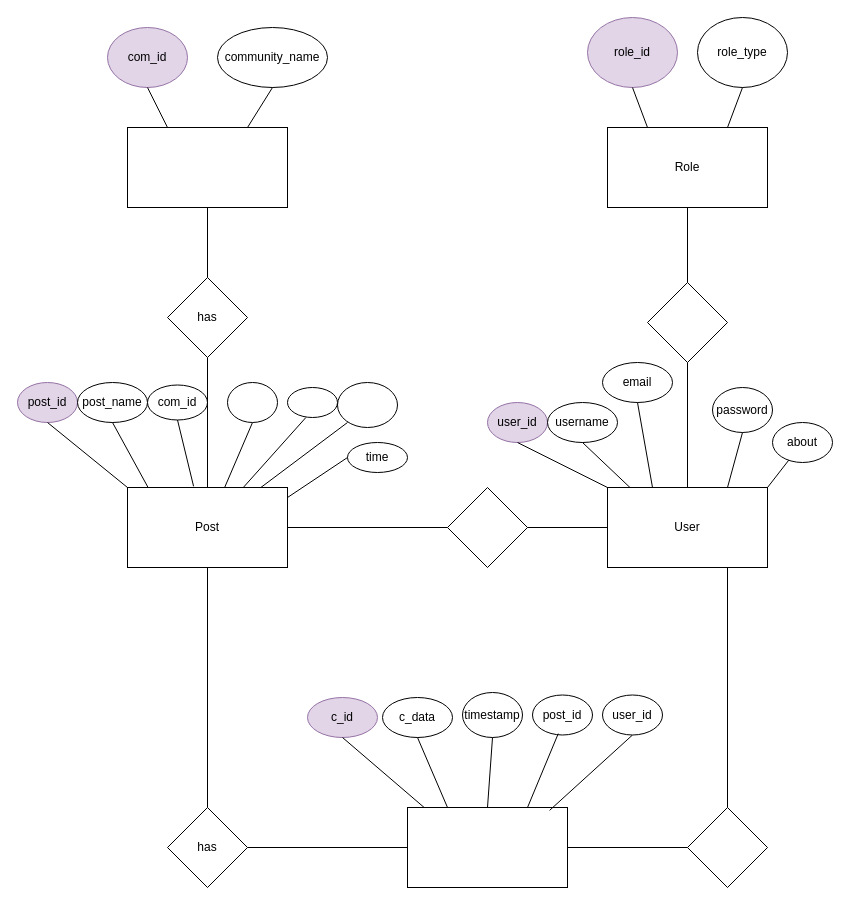
The diagram is 850 pixels wide and 905 high, and some of its shapes have lost their labels. The centre of each missing label's shape, as x and y in pixels:
assigned: point (687, 322)
Comment: point (487, 847)
Community: point (207, 167)
data: point (312, 402)
description: point (367, 405)
do: point (727, 847)
image: point (252, 402)
view: point (487, 527)
